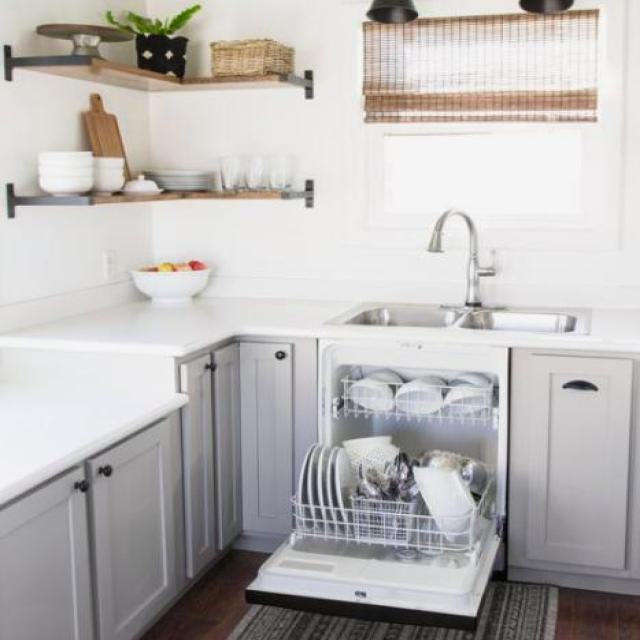dishwasher: (245, 347, 506, 630)
